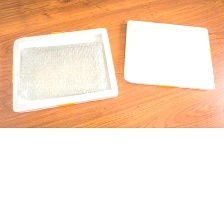foam_box: (6, 25, 121, 115), (121, 18, 218, 92)
